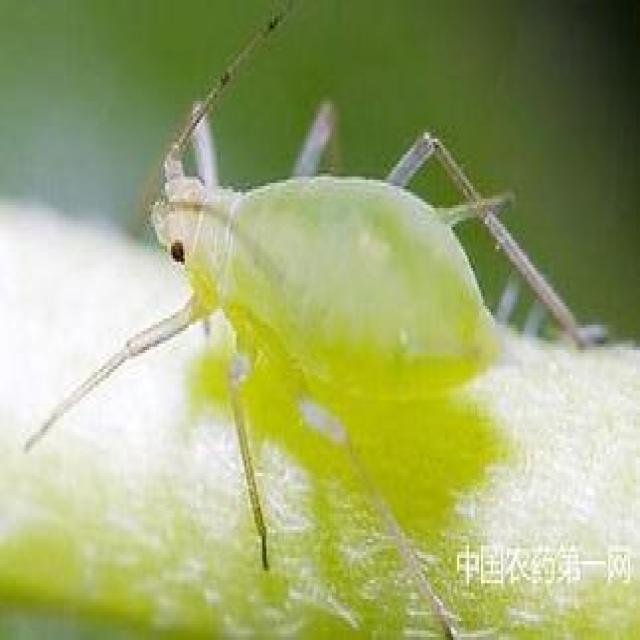Aphids: (27, 36, 615, 531)
